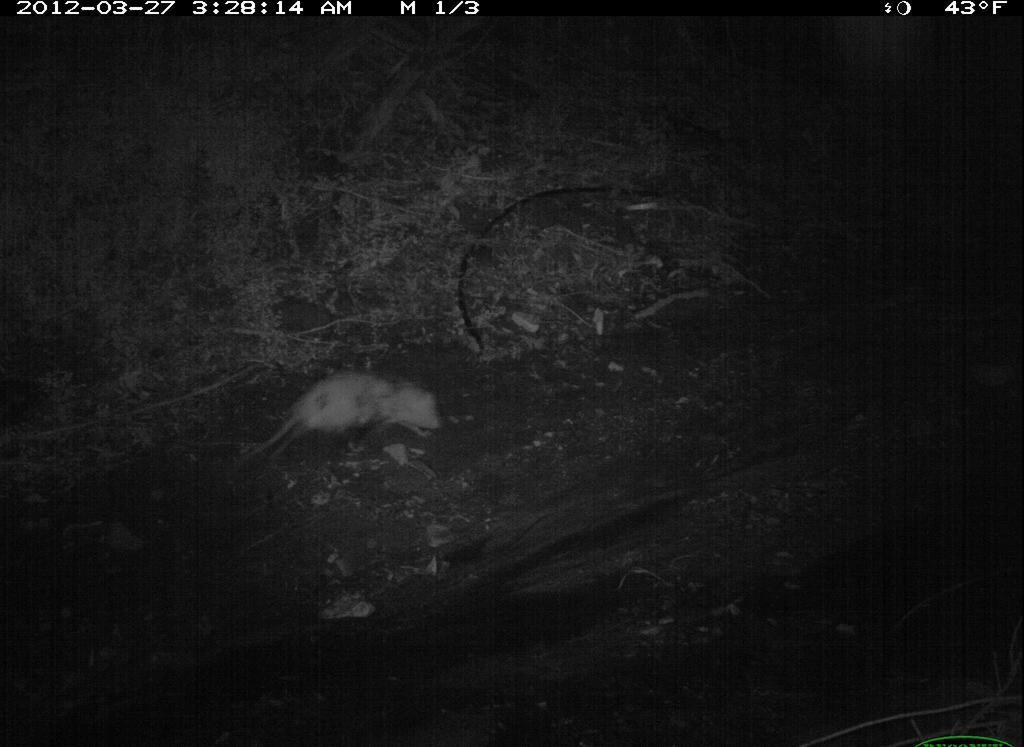opossum: (259, 345, 446, 474)
